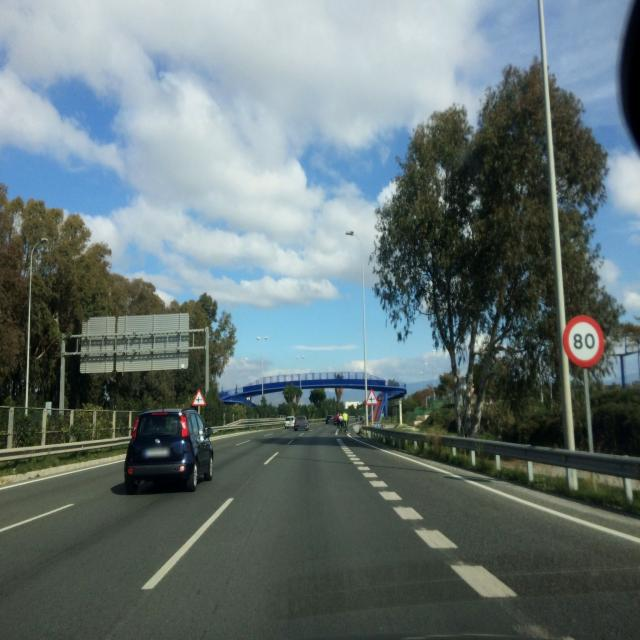car: (124, 407, 214, 493), (294, 416, 310, 432), (284, 416, 296, 430), (325, 414, 334, 424)
